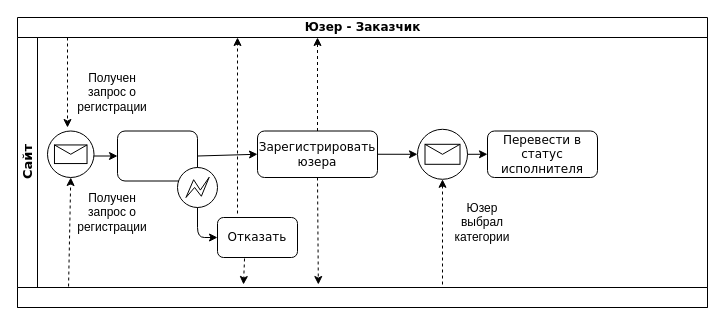
This 725x325 diagram has some shape labels left out. The shapes that lost their labels are listed below. From the top down, each one's centre as x and y in pixels, then its label:
the point at 157,155: Проверить данные
the point at 362,297: Юзер - Исполнитель
